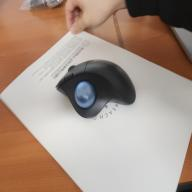mouse: (54, 57, 136, 120)
